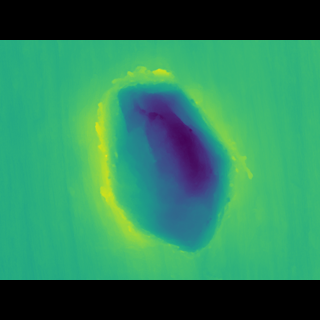Loch: (75, 73, 259, 236)
